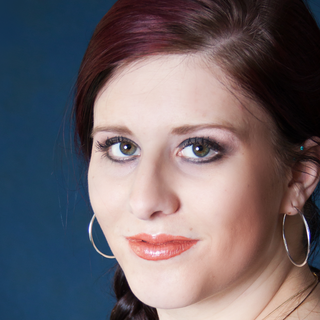eye: (168, 133, 232, 169), (96, 131, 146, 167)
